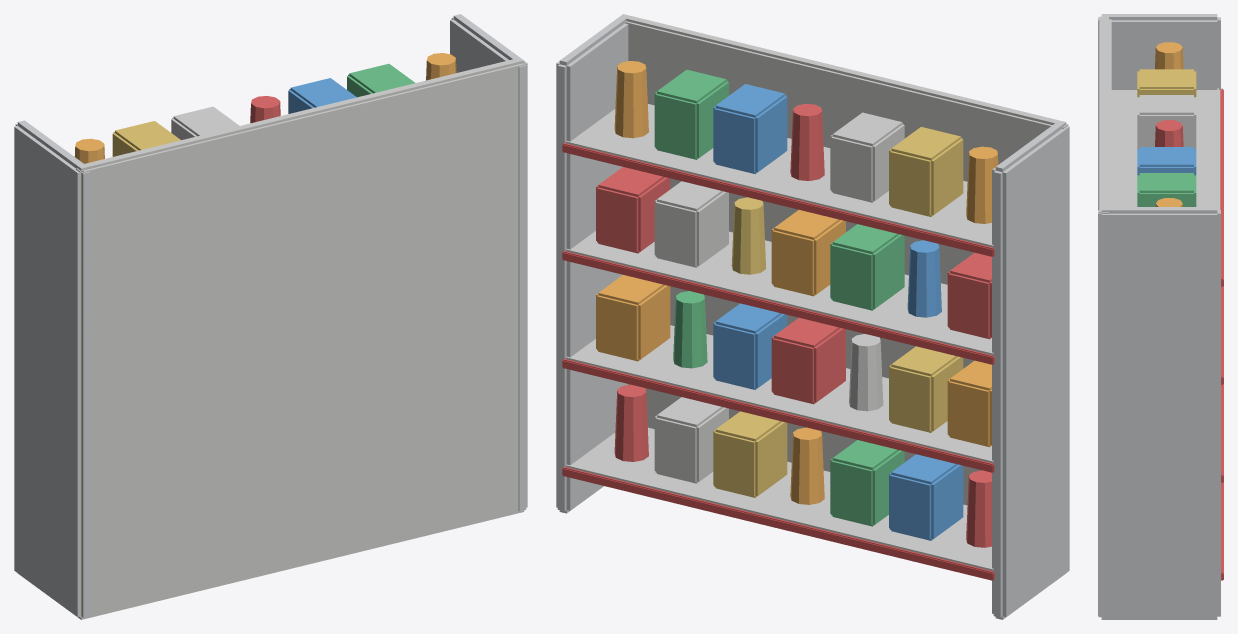
The model's file is Interior_MarketShelf.fbx.
The picture shows the model from 3 angles, left to right: view 1: azimuth 30°, elevation 25°; view 2: azimuth 150°, elevation 25°; view 3: azimuth 270°, elevation 25°; orthographic projection. The views are drawn at different scales.
Visible parts, largest first — view 1: Interior_MarketShelf; view 2: Interior_MarketShelf; view 3: Interior_MarketShelf.
Boxes of the visible parts, x1,y1,x2,y2 form: Interior_MarketShelf: (14, 14, 527, 619); Interior_MarketShelf: (556, 14, 1069, 619); Interior_MarketShelf: (1098, 14, 1223, 619).
Bounding box in the file's own units: 1.92 × 1.84 × 0.5125.
